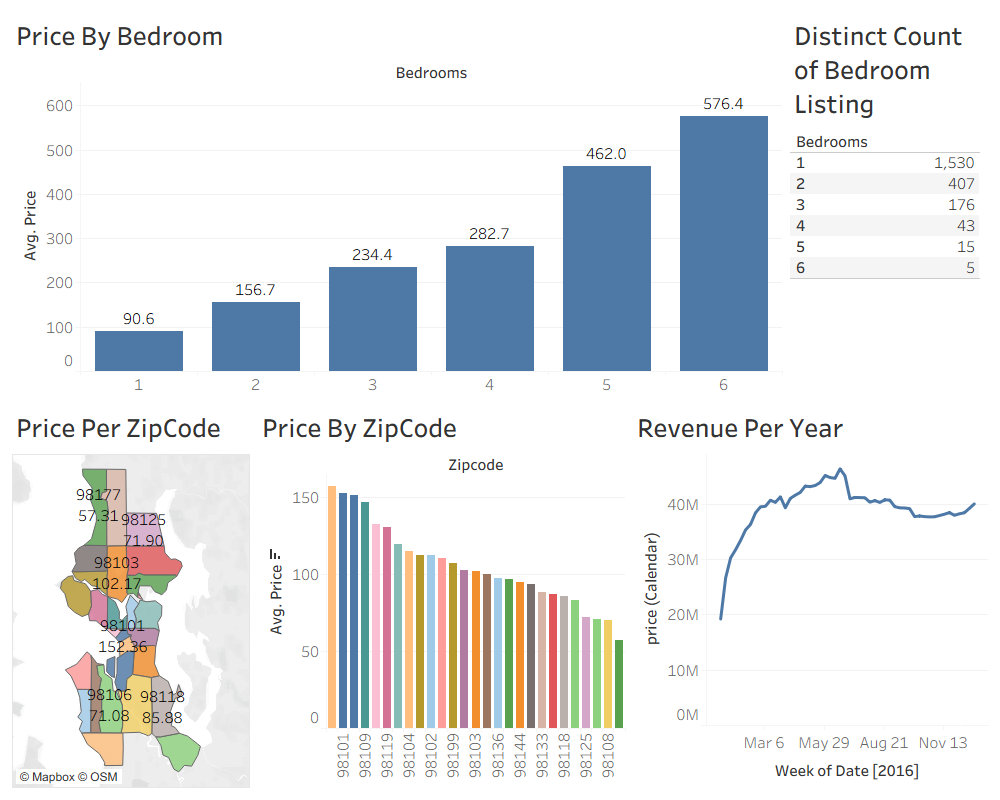

What the dashboard file says about the page in this screenshot:
{"tool":"tableau","page":{"name":"Dashboard 1","canvas":[1000,800],"ordinal":0},"visuals":[{"type":"worksheet","title":"Price By Bedroom","mark":"Automatic","rows":["price"],"cols":["bedrooms"],"box":[8,8,778,392]},{"type":"worksheet","title":"Distinct Count of Bedroom Listing","mark":"Automatic","rows":["bedrooms"],"box":[786,8,206,392]},{"type":"worksheet","title":"Price Per ZipCode","mark":"Multipolygon","box":[8,400,246,392]},{"type":"worksheet","title":"Price By ZipCode","mark":"Automatic","rows":["price"],"cols":["zipcode"],"box":[254,400,375,392]},{"type":"worksheet","title":"Revenue Per Year","mark":"Automatic","rows":["price (Calendar)"],"cols":["date"],"box":[629,400,363,392]}]}

Visuals, with their boxes in screenshot pixels (x1, y1, x2, y2), scaled from the page's 1000x800 canvas onto the 1000x800 screenshot:
"Price By Bedroom" worksheet: {"x1": 8, "y1": 8, "x2": 786, "y2": 400}
"Distinct Count of Bedroom Listing" worksheet: {"x1": 786, "y1": 8, "x2": 992, "y2": 400}
"Price Per ZipCode" worksheet (Multipolygon marks): {"x1": 8, "y1": 400, "x2": 254, "y2": 792}
"Price By ZipCode" worksheet: {"x1": 254, "y1": 400, "x2": 629, "y2": 792}
"Revenue Per Year" worksheet: {"x1": 629, "y1": 400, "x2": 992, "y2": 792}
